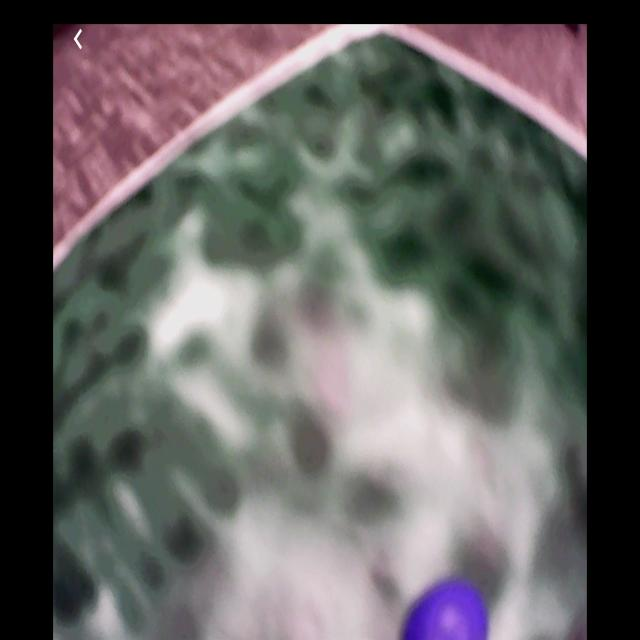ball: (401, 578, 489, 640)
